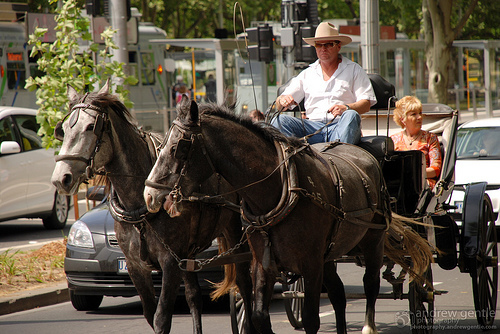horse: (142, 97, 391, 332), (51, 91, 258, 333)
